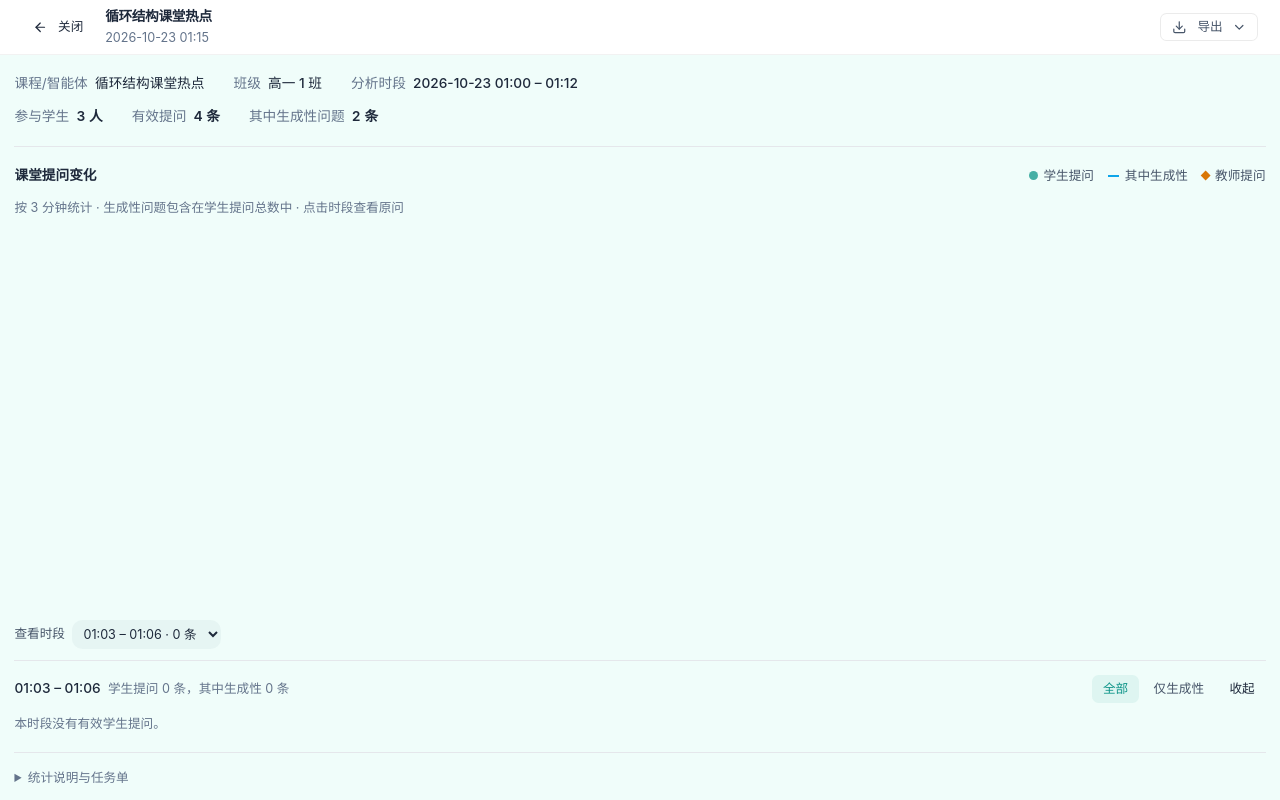
Test case: HotAnalysisResultPage › 空白和零时段可点击，也能通过选择框访问
The image size is (1280, 800).
Expected: the text "本时段没有有效学生提问。" is shown, [14,716,166,731]
Select "01:06 – 01:09 · 1 条" in the dropdown labelled "查看时段" at (146, 634), box [72,620,221,649]
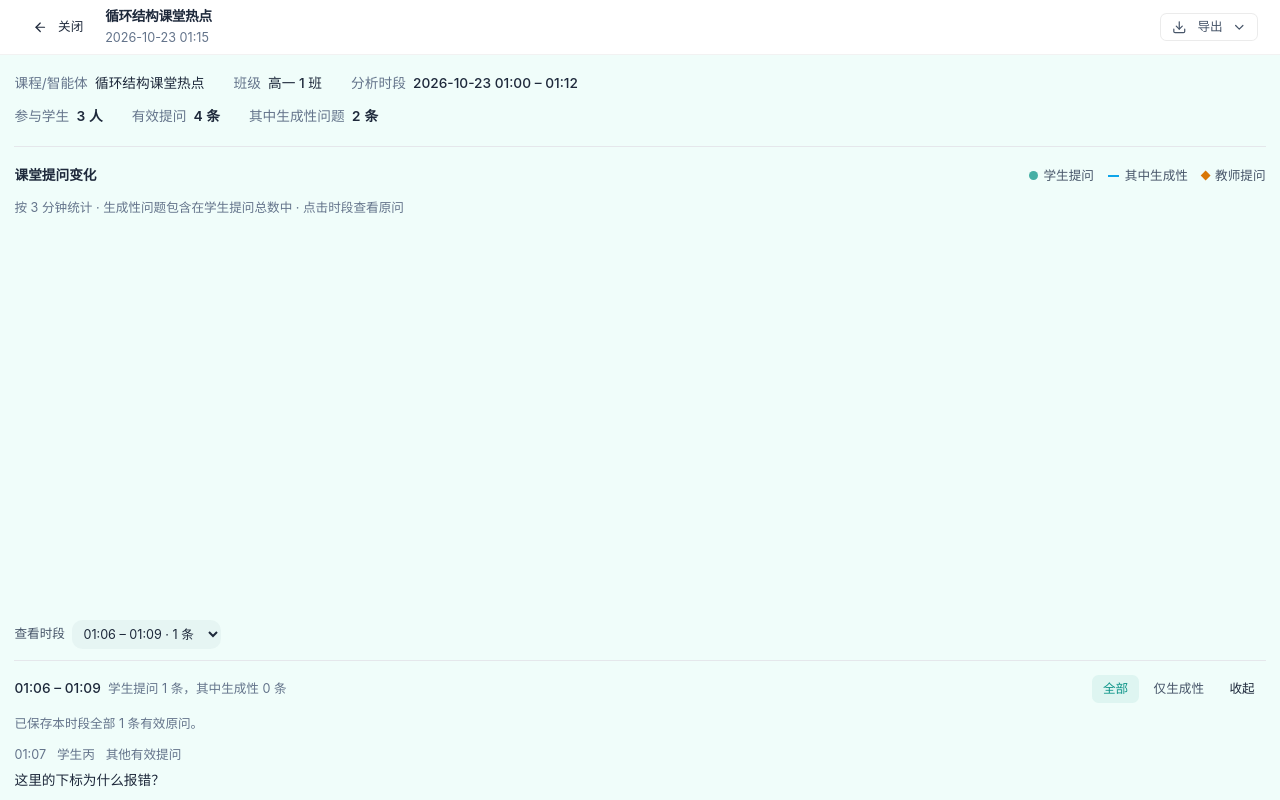
Now the text "这里的下标为什么报错？" is shown, box [14,772,165,788]
